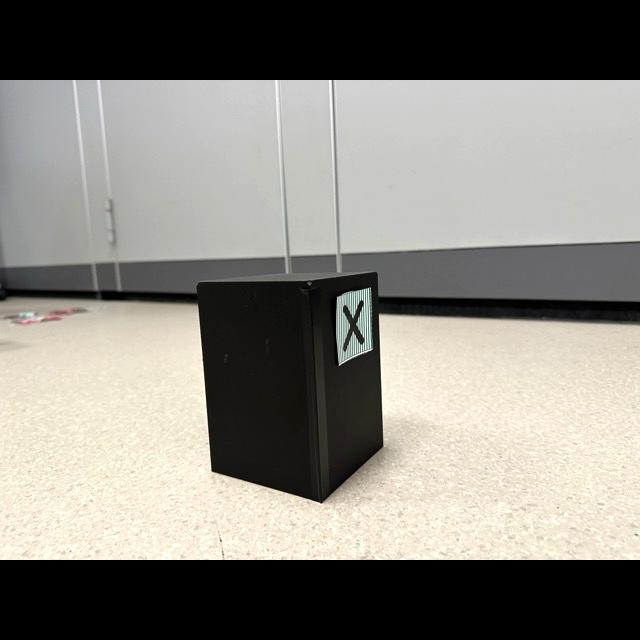X: (343, 300, 364, 351)
